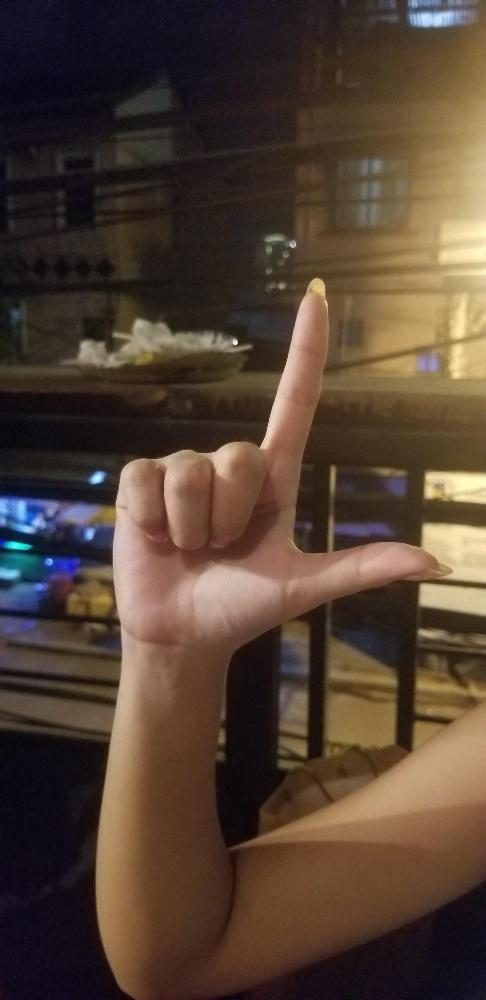l: (108, 268, 451, 658)
